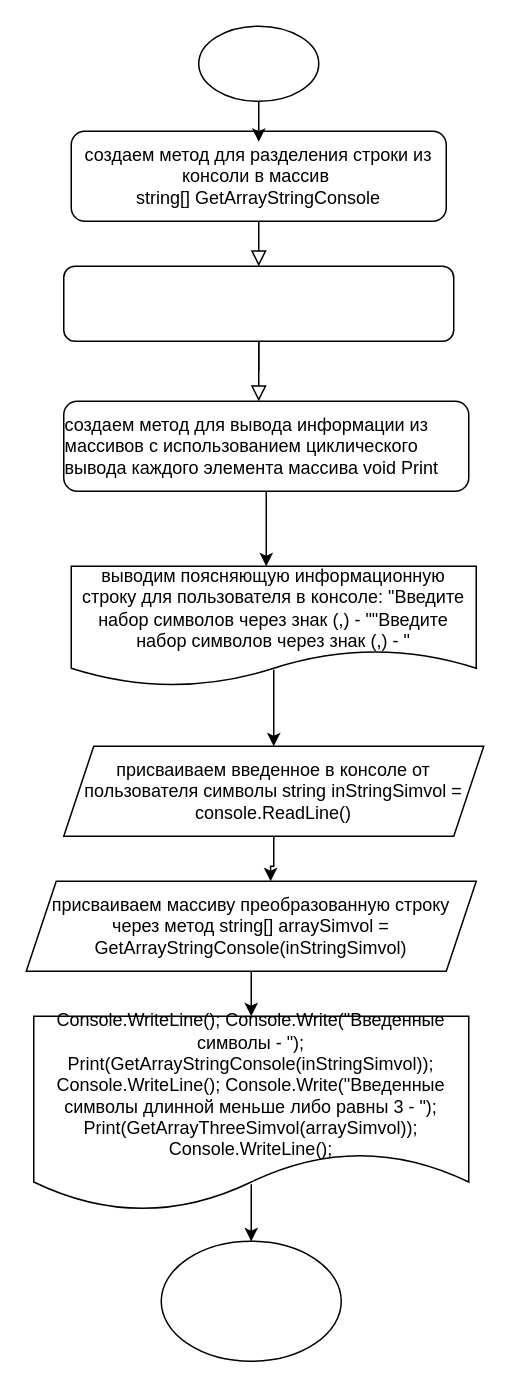
This 510x1388 diagram has some shape labels left out. The shapes that lost their labels are listed below. From the top down, each one's centre as x and y in pixels, then its label:
the point at 258,63: start
the point at 258,303: создаем метод сортирующий символы из массива string[] GetArrayThreeSimvol
the point at 250,1300: end
